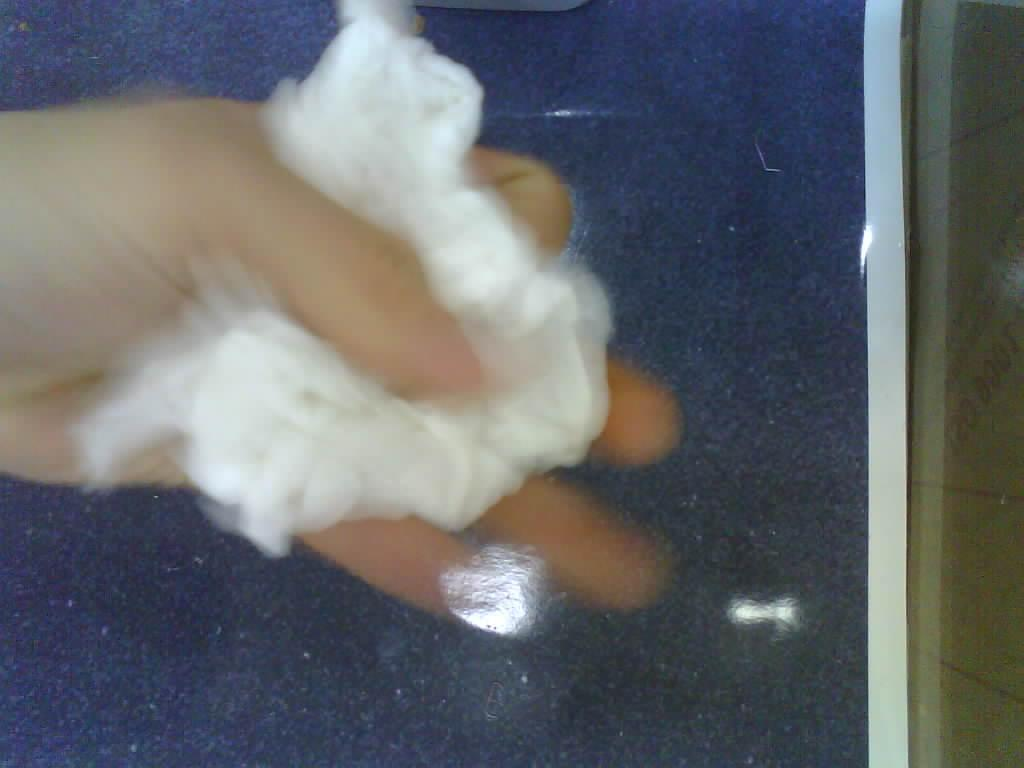paper: (76, 2, 608, 556)
